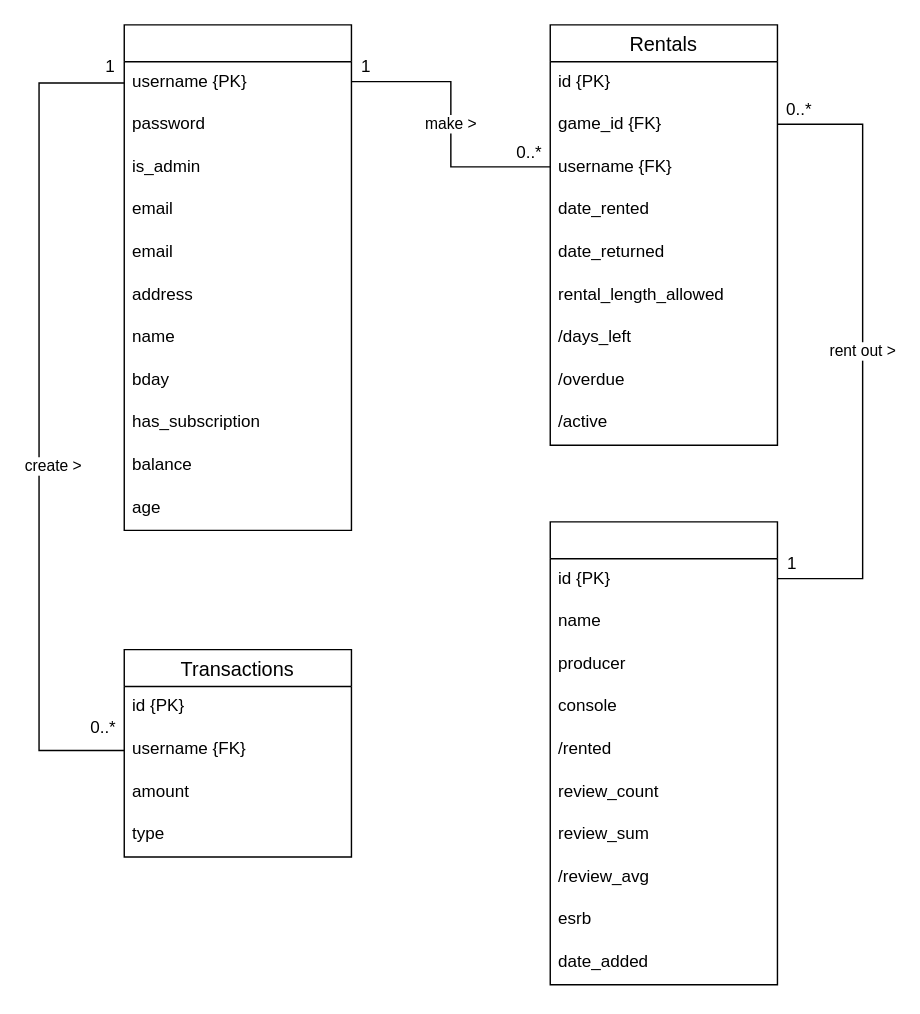
The diagram is 920 pixels wide and 1014 high, and some of its shapes have lost their labels. The shapes that lost their labels are listed below. From the top down, each one's box as (x1, y1, x2, y2) in pixels, then its label:
(123, 23, 351, 530): Users
(549, 520, 777, 985): Games
